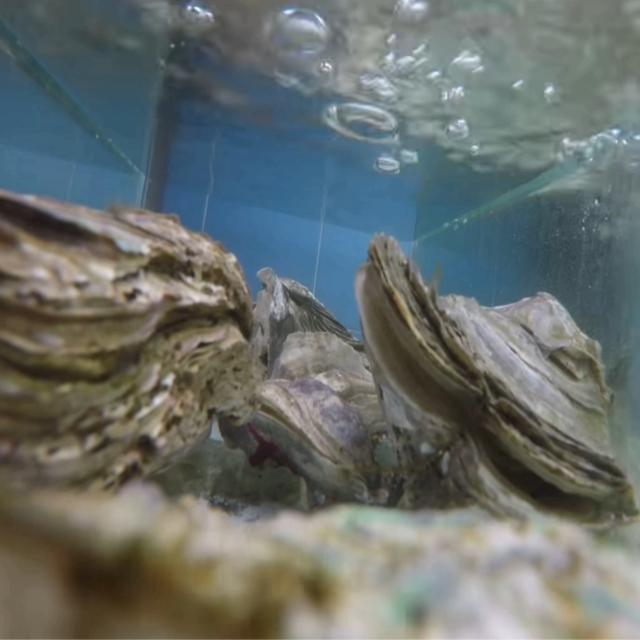Oyster-Closed: (0, 188, 255, 514), (249, 330, 406, 508)
Oyster-Indeterminate: (0, 479, 640, 640), (252, 266, 368, 383)
Oyster-Open: (353, 235, 640, 540)
